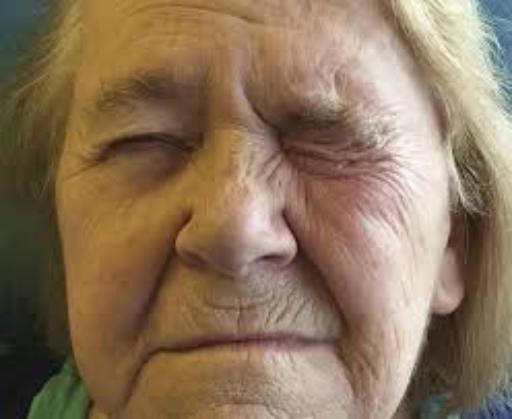left_eye: (279, 140, 396, 182)
left_lip_corner: (304, 328, 345, 355)
right_eye: (99, 131, 195, 159)
right_lip_corner: (141, 339, 185, 364)
